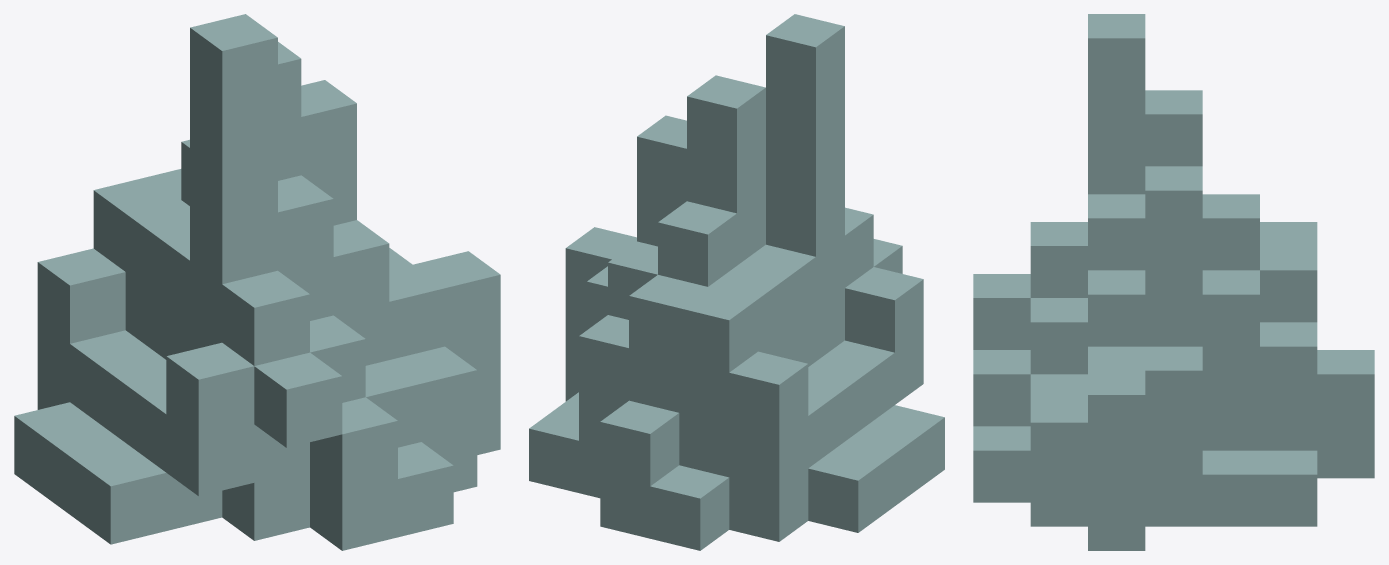
Rendered from Pointyrock.obj.
3 renders of one model, left to right at view 1: azimuth 30°, elevation 25°; view 2: azimuth 150°, elevation 25°; view 3: azimuth 270°, elevation 25°, orthographic. The views are drawn at different scales.
Parts seen in each view (by area): view 1: Pointyrock; view 2: Pointyrock; view 3: Pointyrock.
Part boxes in pixels (x1=…): Pointyrock: x1=14, y1=14, x2=500, y2=550; Pointyrock: x1=529, y1=14, x2=944, y2=550; Pointyrock: x1=973, y1=14, x2=1374, y2=550.
Size of the model in its own units: 7 by 8 by 7.
Materials: 1 (1 with a texture image).
